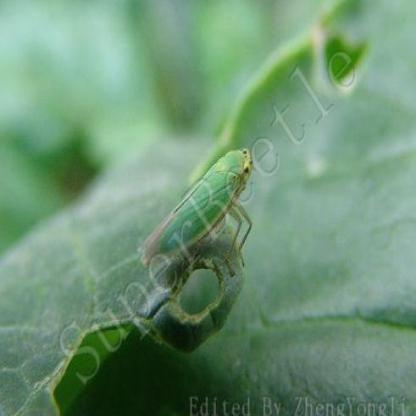Green-Leafhopper: (141, 145, 254, 278)
